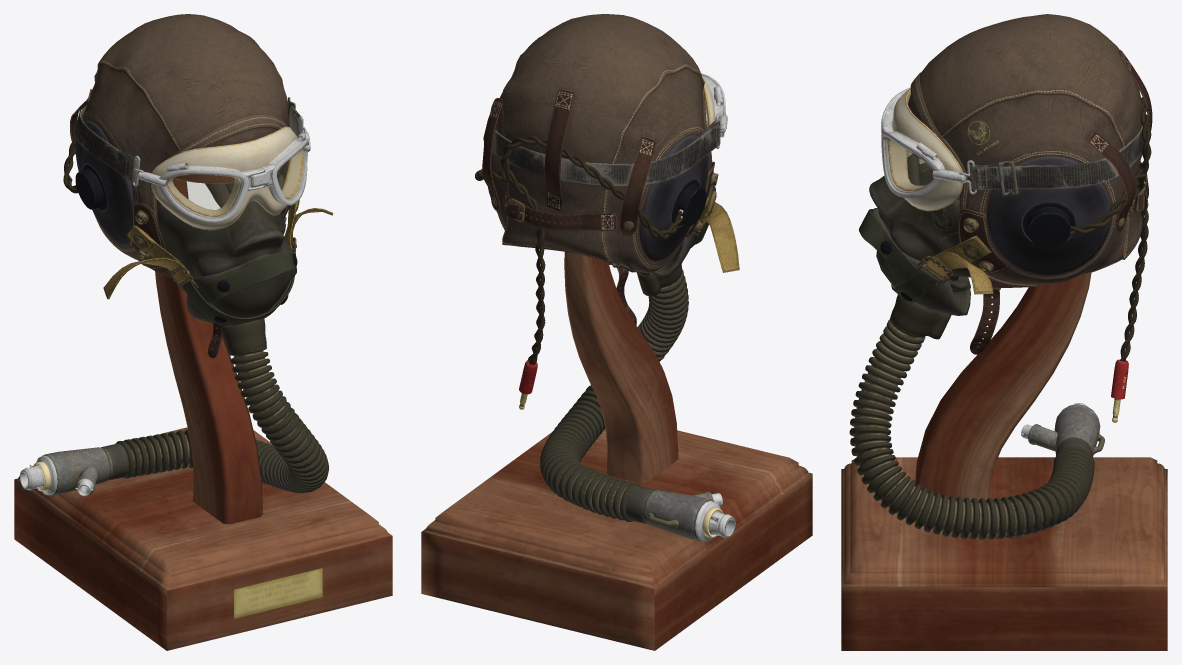
Rendered from flight-helmet.glb.
3 renders of one model, left to right at view 1: azimuth 30°, elevation 25°; view 2: azimuth 150°, elevation 25°; view 3: azimuth 270°, elevation 25°, orthographic. The views are drawn at different scales.
Visible parts, largest first — view 1: RubberWood_low, LeatherParts_low, MetalParts_low, GlassPlastic_low, Hose_low, Lenses_low; view 2: RubberWood_low, LeatherParts_low, Hose_low, MetalParts_low, GlassPlastic_low; view 3: RubberWood_low, LeatherParts_low, Hose_low, GlassPlastic_low, MetalParts_low, Lenses_low.
Part boxes in pixels (x1=…): RubberWood_low: x1=14, y1=100, x2=392, y2=650; LeatherParts_low: x1=70, y1=14, x2=290, y2=358; MetalParts_low: x1=20, y1=97, x2=322, y2=618; GlassPlastic_low: x1=75, y1=120, x2=304, y2=244; Hose_low: x1=115, y1=346, x2=328, y2=493; Lenses_low: x1=165, y1=144, x2=307, y2=219; RubberWood_low: x1=421, y1=114, x2=812, y2=650; LeatherParts_low: x1=482, y1=14, x2=714, y2=325; Hose_low: x1=540, y1=270, x2=688, y2=521; MetalParts_low: x1=492, y1=73, x2=735, y2=541; GlassPlastic_low: x1=487, y1=76, x2=715, y2=261; RubberWood_low: x1=841, y1=97, x2=1167, y2=650; LeatherParts_low: x1=908, y1=14, x2=1152, y2=354; Hose_low: x1=849, y1=317, x2=1094, y2=539; GlassPlastic_low: x1=887, y1=88, x2=1110, y2=275; MetalParts_low: x1=880, y1=87, x2=1146, y2=457; Lenses_low: x1=883, y1=137, x2=933, y2=193.
Bounding box in the file's own units: 0.3666 × 0.716 × 0.3716.
Materials: 6 (6 with a texture image).
